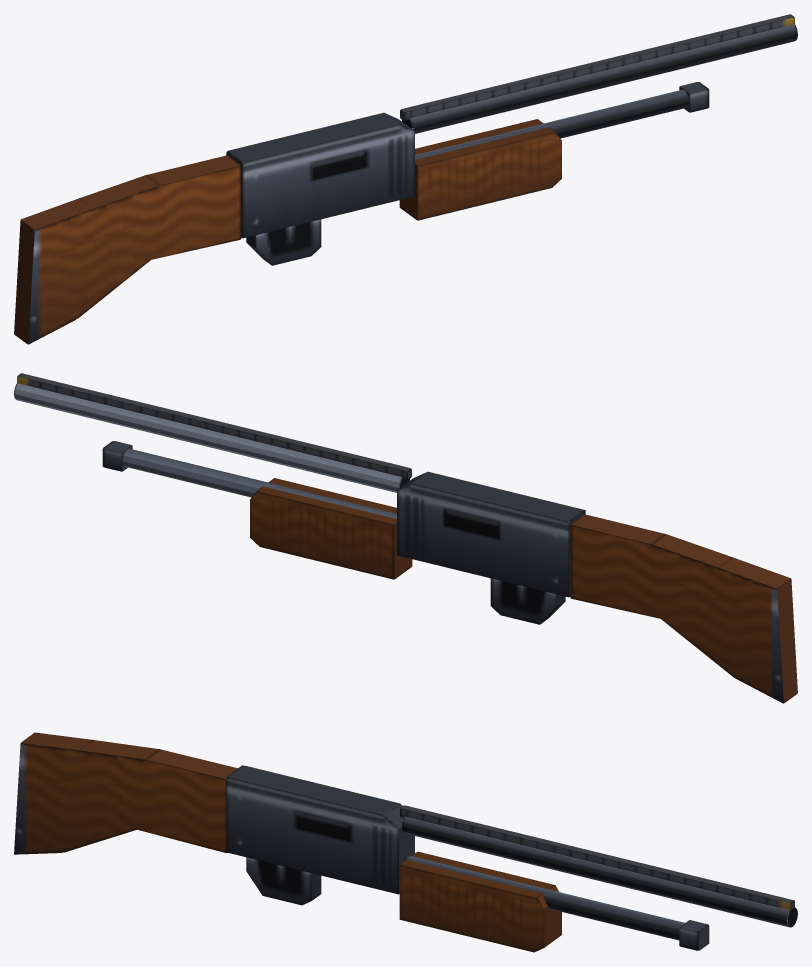
Rendered from shotgun_model.obj.
3 views of the same model, one above another, from view 1: azimuth 30°, elevation 25°; view 2: azimuth 150°, elevation 25°; view 3: azimuth 330°, elevation 25° (orthographic).
Bounding box in the file's own units: 47 × 7.9 × 1.9.
1 material, 1 textured.
